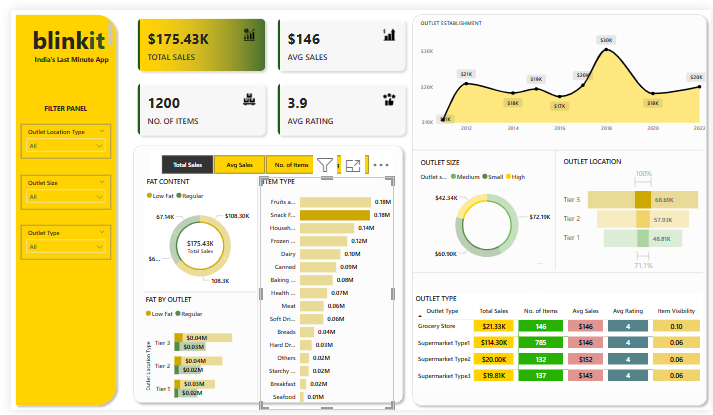

This screenshot's page, from the dashboard's own definition file:
{"tool":"powerbi","page":{"name":"Page 1","canvas":[1400,800],"ordinal":0},"visuals":[{"type":"shape","box":[0,0,220,800],"z":0},{"type":"textbox","box":[268.1,250,147.2,500],"z":1000},{"type":"textbox","box":[29.2,20.8,177.8,63.9],"z":2000},{"type":"textbox","box":[31.9,84.7,177.8,31.9],"z":3000},{"type":"cardVisual","fields":{"Data":["BlinkIT Grocery Data.Total Sales","BlinkIT Grocery Data.Avg Sales","BlinkIT Grocery Data.No. of Items","BlinkIT Grocery Data.Avg Rating"]},"box":[236.7,0,571.4,269.4],"z":4000},{"type":"shape","box":[236.7,261.2,557.1,532.7],"z":5000},{"type":"donutChart","title":"FAT CONTENT","fields":{"Y":["BlinkIT Grocery Data.Total Sales","Sum(BlinkIT Grocery Data.Sales)"],"Category":["BlinkIT Grocery Data.Item Fat Content"]},"box":[265.2,333.3,224.6,230.4],"z":6000},{"type":"slicer","fields":{"Values":["Metrics 2.Metrics"]},"box":[275,283.9,464.3,50],"z":7000},{"type":"cardVisual","fields":{"Data":["BlinkIT Grocery Data.Total Sales"]},"box":[319.6,439.3,117.9,60.7],"z":8000},{"type":"clusteredBarChart","title":"FAT BY OUTLET","fields":{"Y":["BlinkIT Grocery Data.Total Sales"],"Series":["BlinkIT Grocery Data.Item Fat Content"],"Category":["BlinkIT Grocery Data.Outlet Location Type"]},"box":[263.8,569.6,227.5,230.4],"z":9000},{"type":"shape","box":[928.9,408.9,244.4,148.9],"z":10000},{"type":"shape","box":[487.5,333.9,10.7,446.4],"z":11000},{"type":"barChart","title":"ITEM TYPE","fields":{"Y":["BlinkIT Grocery Data.Total Sales"],"Category":["BlinkIT Grocery Data.Item Type"]},"box":[498.2,333.9,267.9,466.1],"z":12000},{"type":"shape","box":[793.3,0,606.7,800],"z":13000},{"type":"lineChart","title":"OUTLET ESTABLISHMENT","fields":{"Y":["BlinkIT Grocery Data.Total Sales"],"Category":["BlinkIT Grocery Data.Outlet Establishment Year"]},"box":[813.3,17.8,580,235.6],"z":14000},{"type":"shape","box":[265.2,558,224.6,11.6],"z":15000},{"type":"shape","box":[1051.1,284.4,11.1,446.7],"z":16000},{"type":"shape","box":[804.4,268.9,580,24.4],"z":17000},{"type":"donutChart","title":"OUTLET SIZE","fields":{"Y":["BlinkIT Grocery Data.Total Sales"],"Category":["BlinkIT Grocery Data.Outlet Size"]},"box":[813.3,295.6,275.6,224.4],"z":18000},{"type":"shape","box":[1082.2,280,13.3,240],"z":19000},{"type":"funnel","title":" OUTLET LOCATION","fields":{"Y":["Sum(BlinkIT Grocery Data.Sales)"],"Category":["BlinkIT Grocery Data.Outlet Location Type"]},"box":[1100,293.3,284.4,231.1],"z":20000},{"type":"shape","box":[804.4,511.1,580,26.7],"z":21000},{"type":"pivotTable","title":"OUTLET TYPE","fields":{"Rows":["BlinkIT Grocery Data.Outlet Type"],"Values":["BlinkIT Grocery Data.Total Sales","BlinkIT Grocery Data.No. of Items","BlinkIT Grocery Data.Avg Sales","BlinkIT Grocery Data.Avg Rating","Avg(BlinkIT Grocery Data.Item Visibility)"]},"box":[804.4,568.9,580,182.2],"z":22000},{"type":"slicer","fields":{"Values":["BlinkIT Grocery Data.Outlet Location Type"]},"box":[20.4,228.6,179.6,69.4],"z":23000},{"type":"slicer","fields":{"Values":["BlinkIT Grocery Data.Outlet Size"]},"box":[20.4,330.6,179.6,69.4],"z":24000},{"type":"slicer","fields":{"Values":["BlinkIT Grocery Data.Outlet Type"]},"box":[20.4,430.6,179.6,69.4],"z":25000},{"type":"textbox","box":[20,181.7,178.3,31.7],"z":26000}]}

Visuals, with their boxes in screenshot pixels (x1, y1, x2, y2), scaled from the page's 1400x800 canvas onto the 713x415 screenshot:
shape: bbox=[0, 0, 112, 414]
textbox: bbox=[137, 130, 212, 389]
textbox: bbox=[15, 11, 105, 44]
textbox: bbox=[16, 44, 107, 60]
cardVisual - BlinkIT Grocery Data.Total Sales x BlinkIT Grocery Data.Avg Sales: bbox=[121, 0, 412, 140]
shape: bbox=[121, 135, 404, 412]
"FAT CONTENT" donutChart: bbox=[135, 173, 249, 292]
slicer - Metrics 2.Metrics: bbox=[140, 147, 377, 173]
cardVisual - BlinkIT Grocery Data.Total Sales: bbox=[163, 228, 223, 259]
"FAT BY OUTLET" clusteredBarChart: bbox=[134, 295, 250, 414]
shape: bbox=[473, 212, 598, 289]
shape: bbox=[248, 173, 254, 405]
"ITEM TYPE" barChart: bbox=[254, 173, 390, 414]
shape: bbox=[404, 0, 712, 414]
"OUTLET ESTABLISHMENT" lineChart: bbox=[414, 9, 710, 131]
shape: bbox=[135, 289, 249, 295]
shape: bbox=[535, 148, 541, 379]
shape: bbox=[410, 139, 705, 152]
"OUTLET SIZE" donutChart: bbox=[414, 153, 555, 270]
shape: bbox=[551, 145, 558, 270]
" OUTLET LOCATION" funnel: bbox=[560, 152, 705, 272]
shape: bbox=[410, 265, 705, 279]
"OUTLET TYPE" pivotTable: bbox=[410, 295, 705, 390]
slicer - BlinkIT Grocery Data.Outlet Location Type: bbox=[10, 119, 102, 155]
slicer - BlinkIT Grocery Data.Outlet Size: bbox=[10, 171, 102, 208]
slicer - BlinkIT Grocery Data.Outlet Type: bbox=[10, 223, 102, 259]
textbox: bbox=[10, 94, 101, 111]
